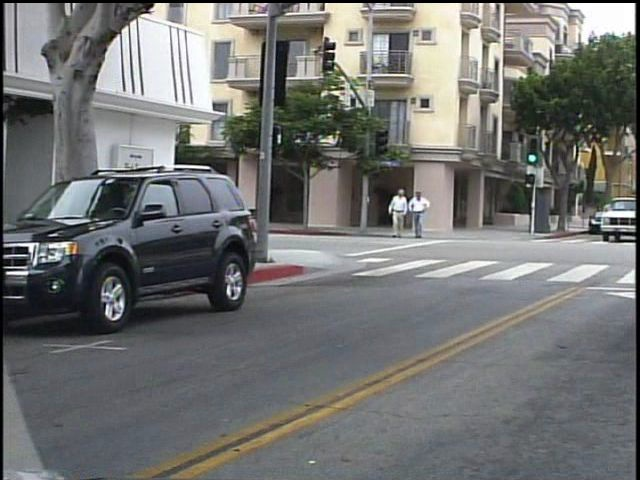person: (392, 184, 416, 245), (412, 186, 437, 242)
